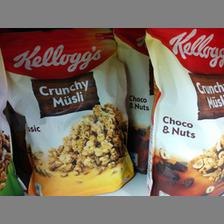Cerealien: (0, 26, 128, 194), (144, 28, 224, 196)
